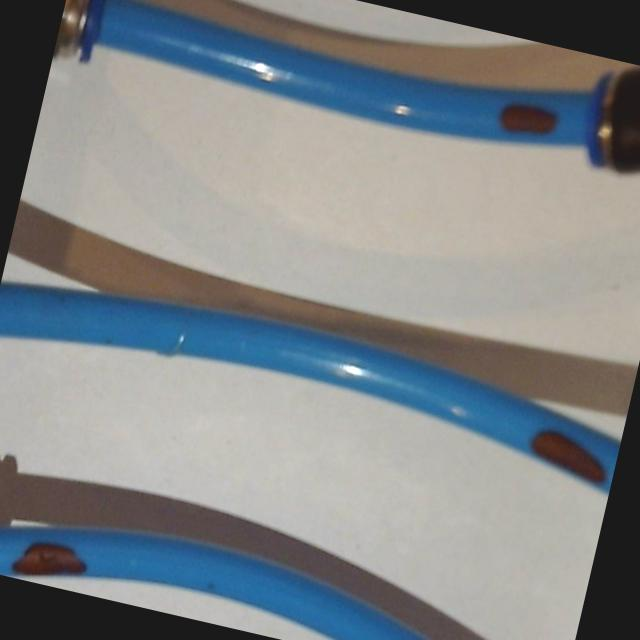hose_damage: (517, 410, 618, 501), (1, 535, 93, 591), (488, 91, 567, 147)
